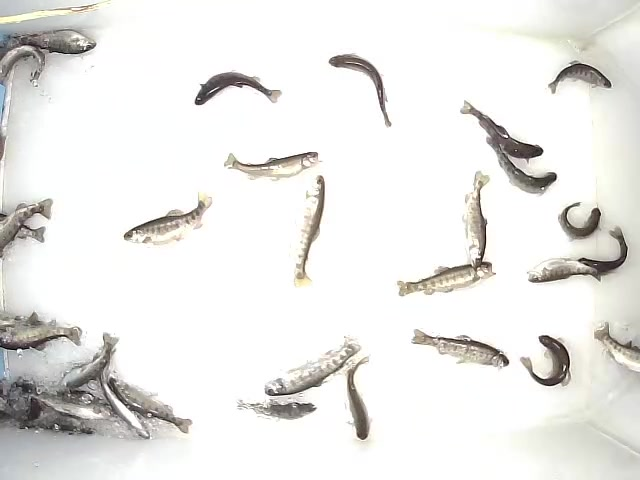fish: (263, 333, 363, 396), (458, 96, 547, 165), (103, 369, 194, 436), (121, 189, 215, 246), (327, 51, 393, 130), (484, 132, 559, 196), (395, 257, 498, 298), (410, 326, 510, 368), (291, 171, 326, 289), (54, 330, 122, 389), (101, 359, 150, 440), (193, 69, 284, 107), (223, 149, 322, 181), (460, 167, 490, 271), (518, 332, 571, 386), (37, 386, 112, 424), (1, 26, 97, 55), (546, 57, 614, 94), (574, 225, 629, 270), (344, 353, 371, 443), (527, 256, 603, 284), (236, 400, 321, 423), (558, 200, 601, 239)
